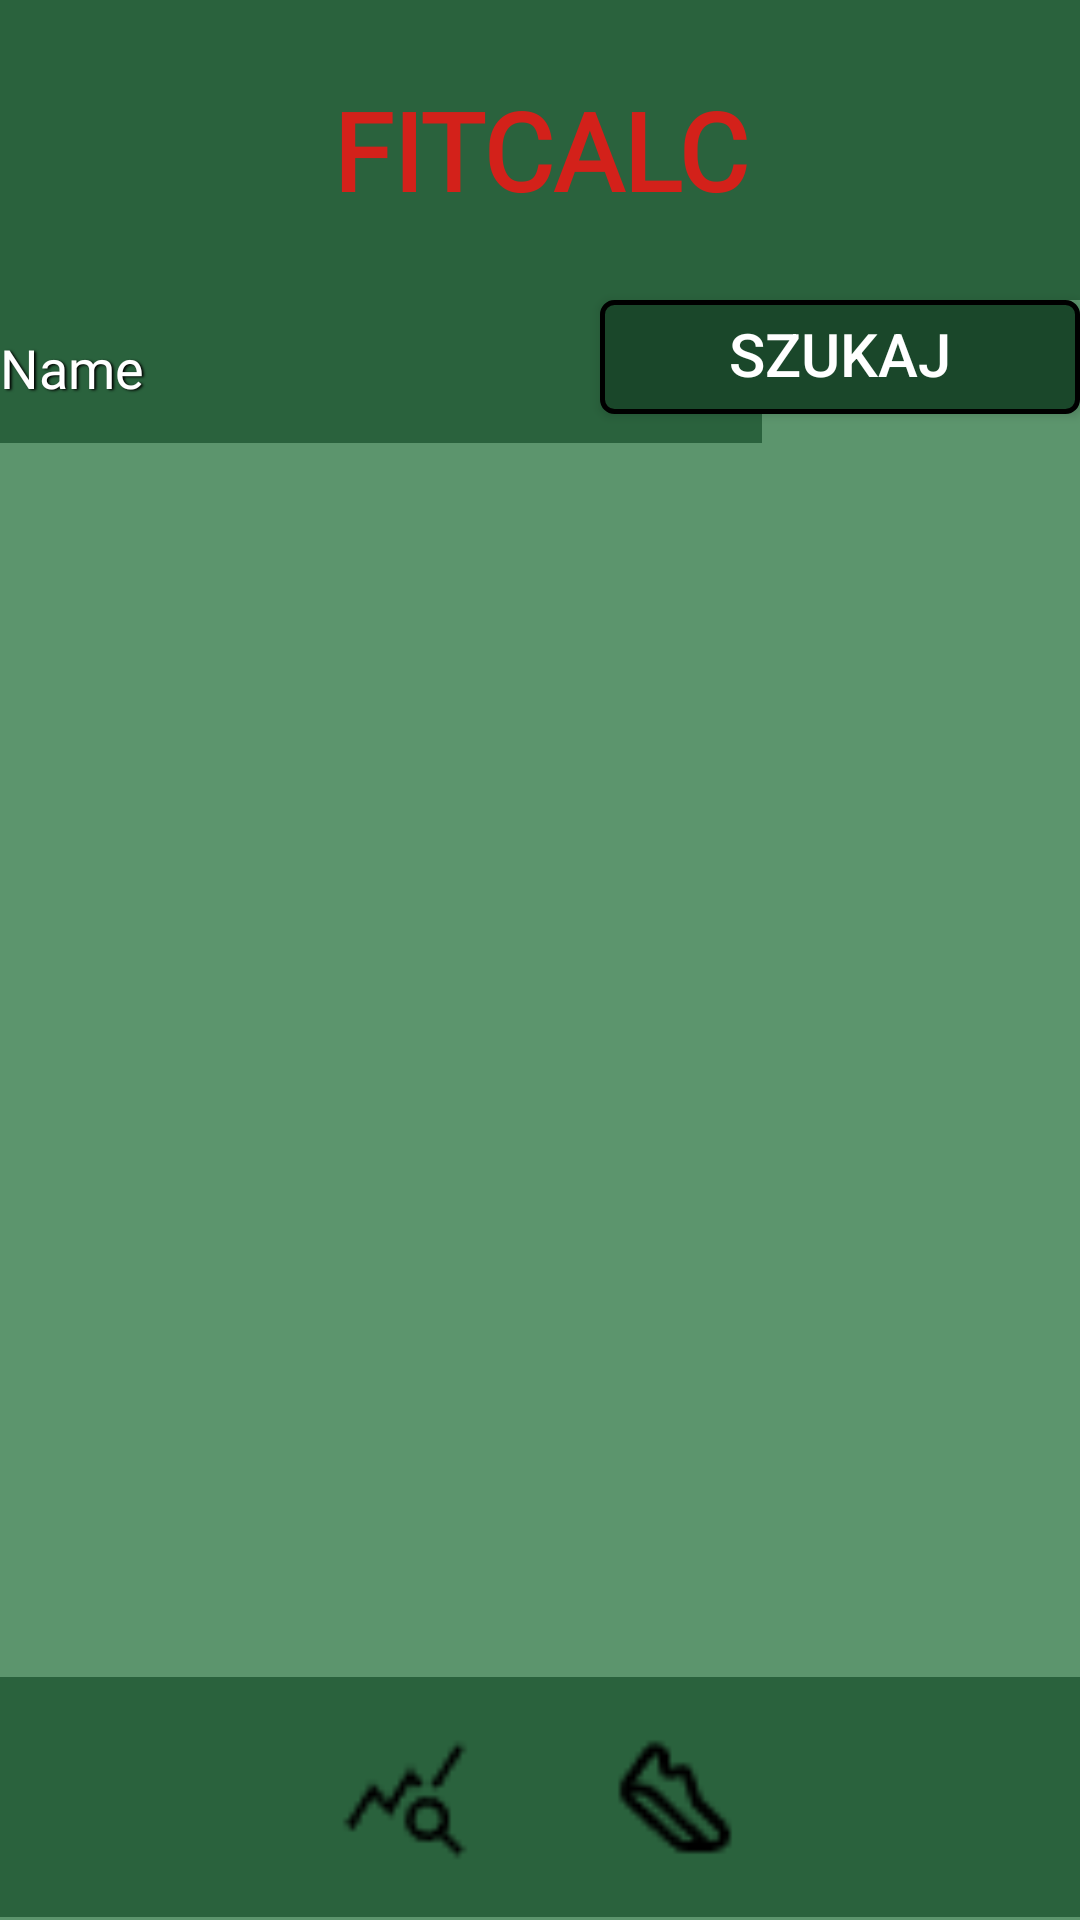

Icons on this 1080 × 1920 Android screen, each with its box as (x1,y1,x2,y2):
analiza: (345,1745,464,1856)
stopa: (619,1741,731,1853)
